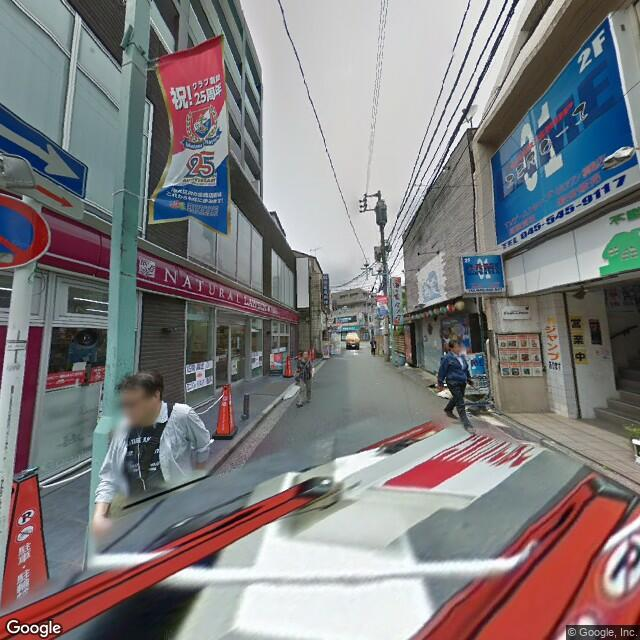lawson: (64, 233, 282, 319)
